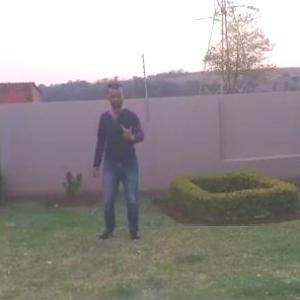takeoff-hand: (113, 118, 142, 146)
